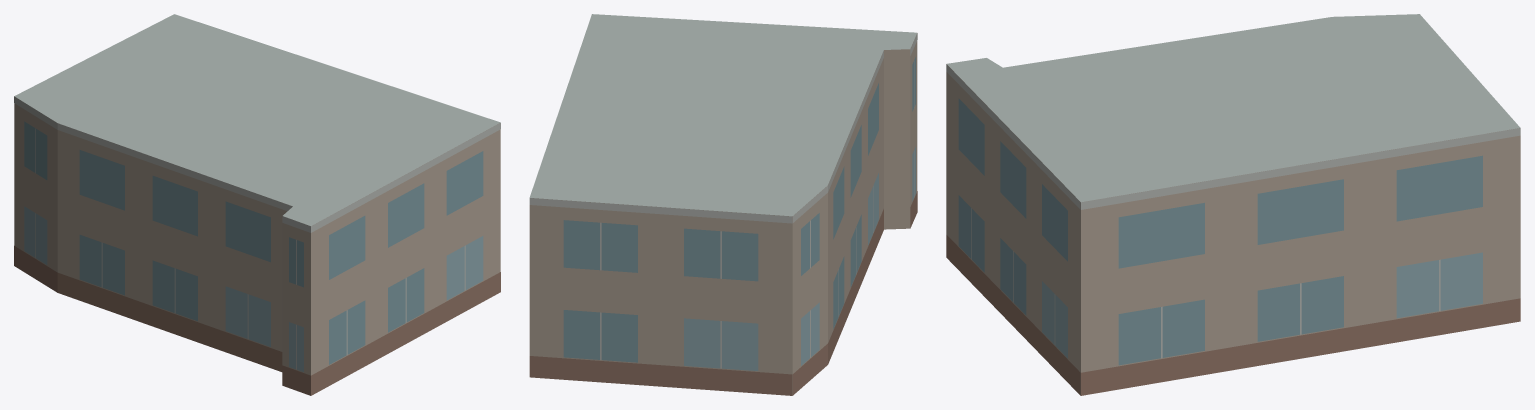
Rendered from survey-upis-32622617.glb.
The picture shows the model from 3 angles, left to right: view 1: azimuth 30°, elevation 25°; view 2: azimuth 150°, elevation 25°; view 3: azimuth 270°, elevation 25°; orthographic projection. The views are drawn at different scales.
Parts seen in each view (by area): view 1: survey-upis-32622617.tmp; view 2: survey-upis-32622617.tmp; view 3: survey-upis-32622617.tmp.
Boxes of the visible parts, x1,y1,x2,y2 form: survey-upis-32622617.tmp: (14, 14, 500, 395); survey-upis-32622617.tmp: (529, 14, 917, 395); survey-upis-32622617.tmp: (946, 14, 1520, 395).
Bounding box in the file's own units: 12.73 × 6.1 × 16.41.
